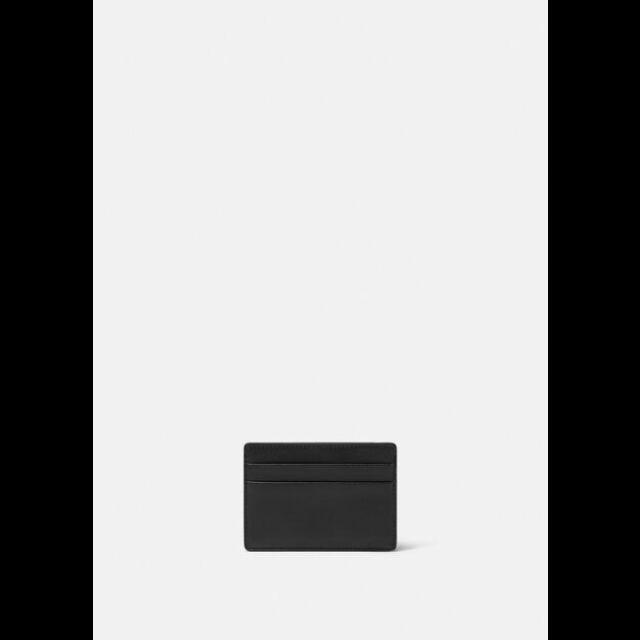Wallet: (236, 438, 402, 552)
